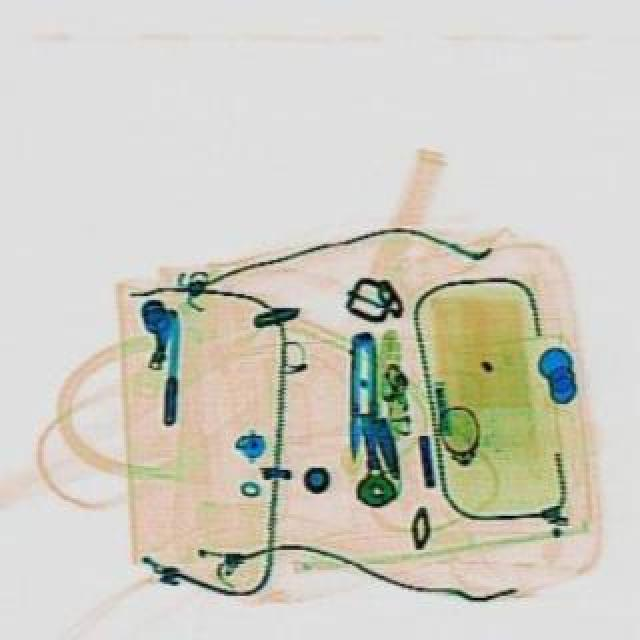pliers: (344, 336, 380, 464)
